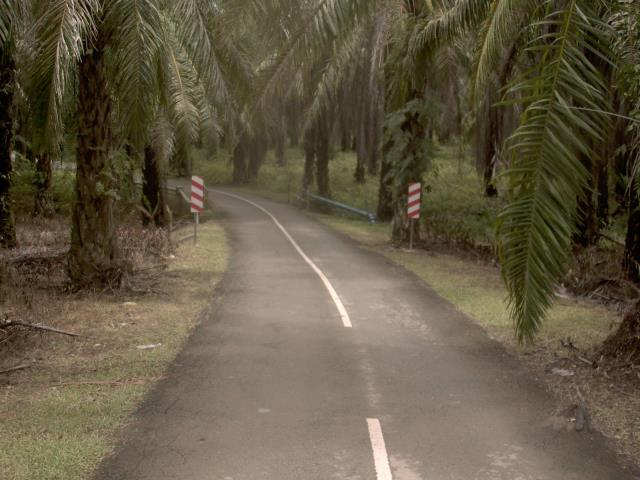traffic_sign: (400, 175, 427, 224), (185, 171, 209, 215)
